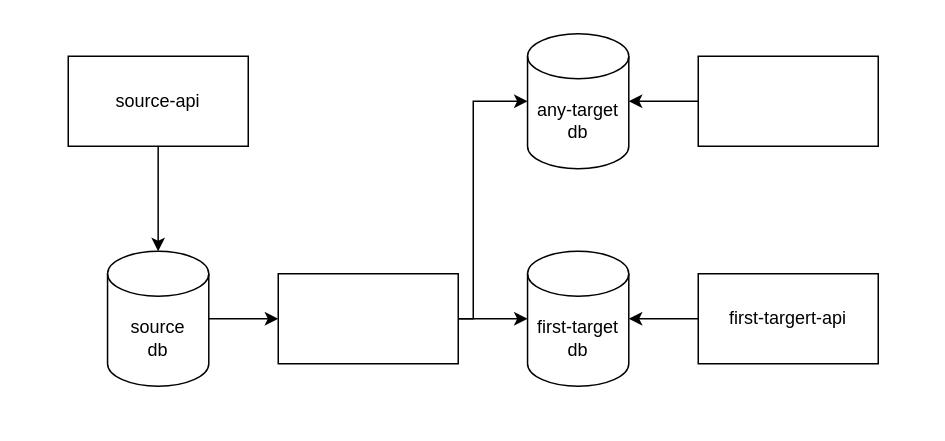
Some shapes in this 945 by 441 pixel diagram are drawn without their labels. Each missing label, with the box of its shape:
any-target-api: (697, 55, 878, 146)
sync-mechanism: (277, 272, 458, 364)
